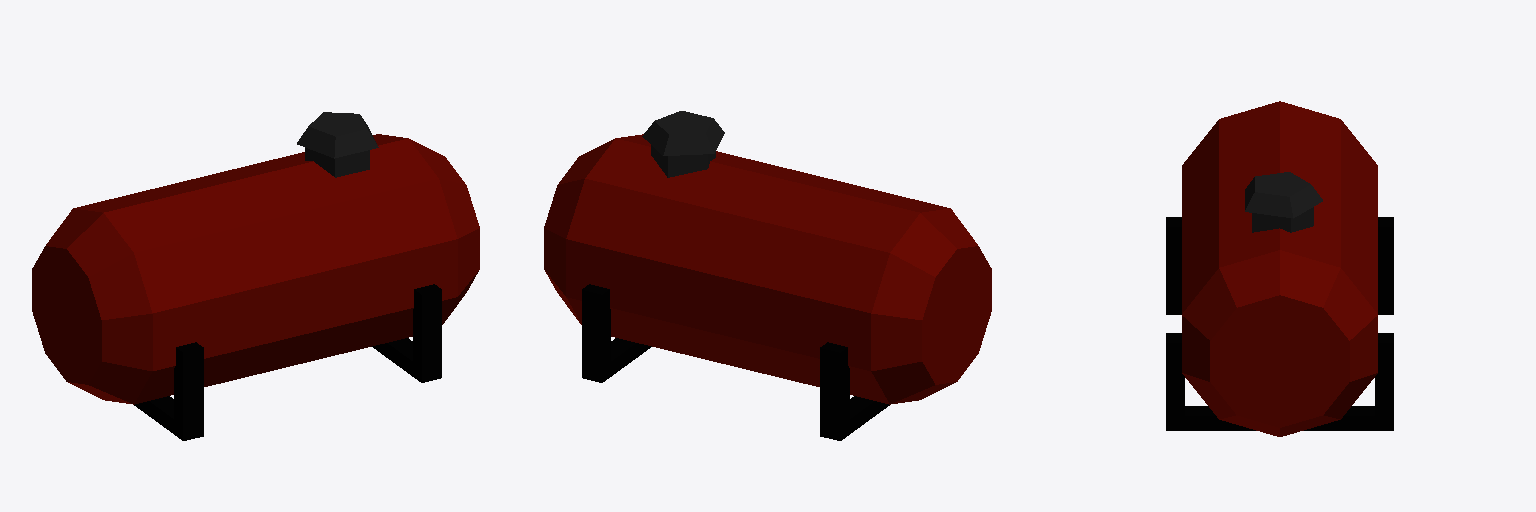
File: GasTank.obj
The picture shows the model from 3 angles: view 1: azimuth 30°, elevation 25°; view 2: azimuth 150°, elevation 25°; view 3: azimuth 270°, elevation 25°; orthographic projection.
Parts seen in each view (by area): view 1: GasTank_Cylinder.020; view 2: GasTank_Cylinder.020; view 3: GasTank_Cylinder.020.
Part boxes in pixels (bbox=[...]): GasTank_Cylinder.020: bbox=[32, 112, 479, 440]; GasTank_Cylinder.020: bbox=[544, 111, 991, 440]; GasTank_Cylinder.020: bbox=[1166, 101, 1393, 436].
Bounding box in the file's own units: 11.96 × 6.78 × 6.23.